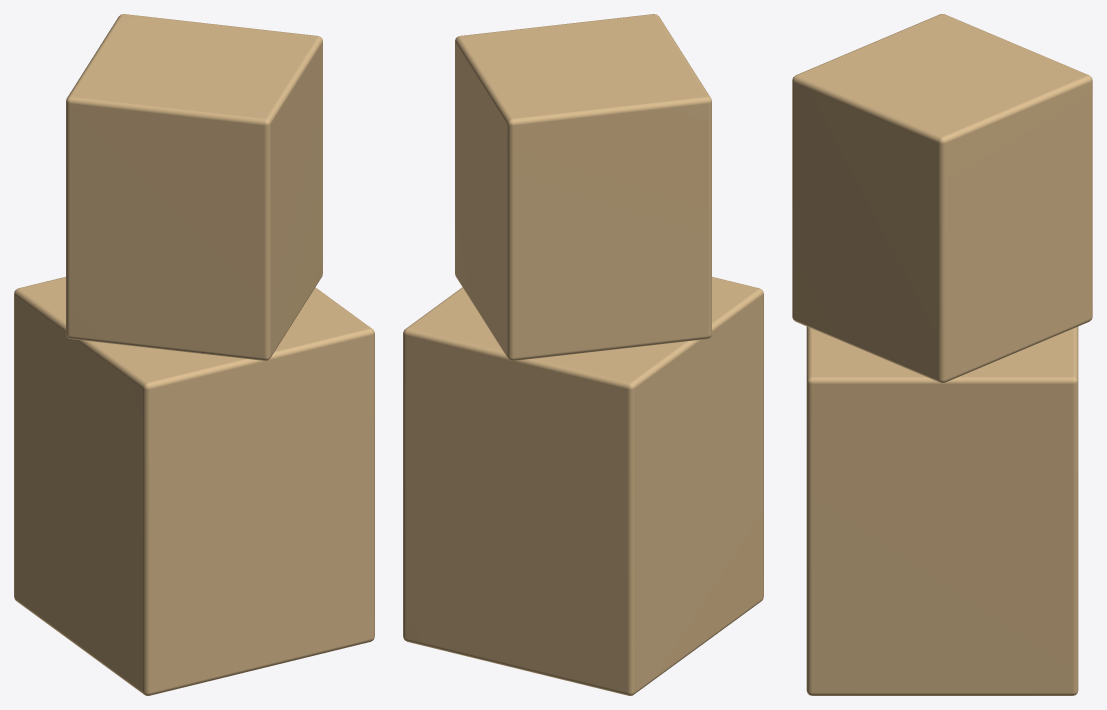
Rendered from king.glb.
3 views of the same model, side by side, from view 1: azimuth 30°, elevation 25°; view 2: azimuth 150°, elevation 25°; view 3: azimuth 270°, elevation 25° (orthographic).
Visible parts, largest first — view 1: Bauhaus-inspired king.001; view 2: Bauhaus-inspired king.001; view 3: Bauhaus-inspired king.001.
Boxes of the visible parts, x1,y1,x2,y2 form: Bauhaus-inspired king.001: [14, 14, 374, 695]; Bauhaus-inspired king.001: [403, 14, 763, 695]; Bauhaus-inspired king.001: [792, 14, 1092, 695].
Bounding box in the file's own units: 0.0376 × 0.078 × 0.0376.
